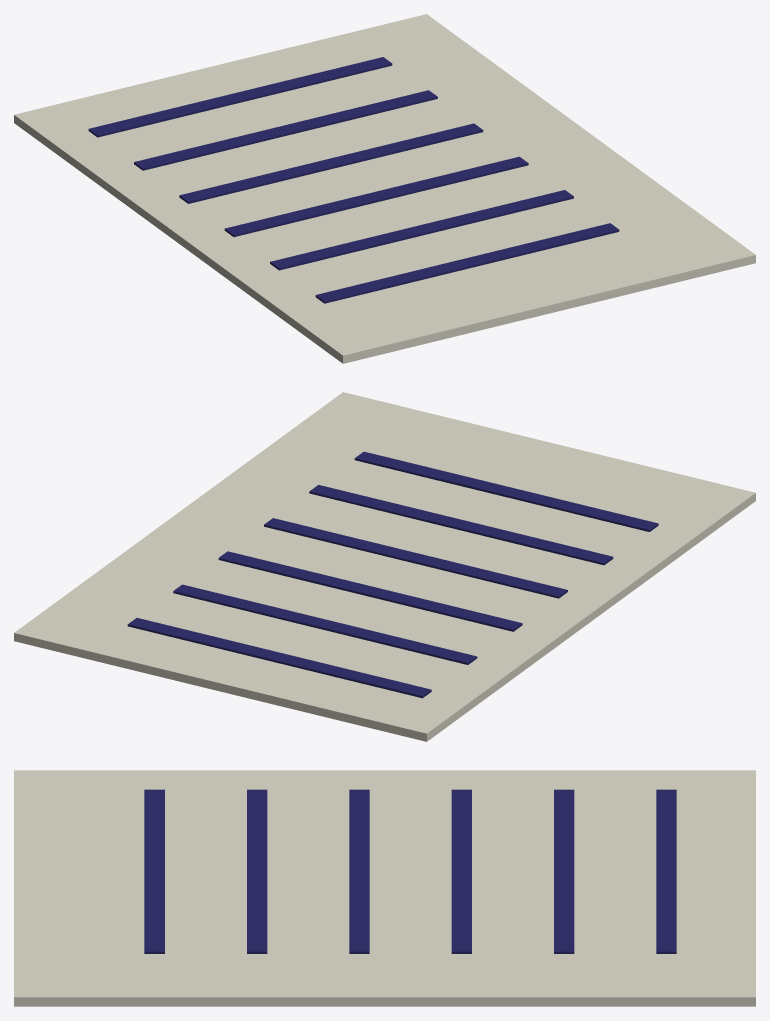
The model's file is buyers_list.glb.
3 views of the same model, one above another, from view 1: azimuth 30°, elevation 25°; view 2: azimuth 150°, elevation 25°; view 3: azimuth 270°, elevation 25° (orthographic). The views are drawn at different scales.
Parts seen in each view (by area): view 1: paper_paper, lines_ink; view 2: paper_paper, lines_ink; view 3: paper_paper, lines_ink.
Part boxes in pixels (bbox=[...]): paper_paper: bbox=[14, 14, 755, 363]; lines_ink: bbox=[88, 57, 619, 303]; paper_paper: bbox=[14, 392, 755, 741]; lines_ink: bbox=[127, 451, 658, 698]; paper_paper: bbox=[14, 770, 755, 1006]; lines_ink: bbox=[144, 789, 676, 953].
Size of the model in its own units: 0.21 by 0.005 by 0.29.
